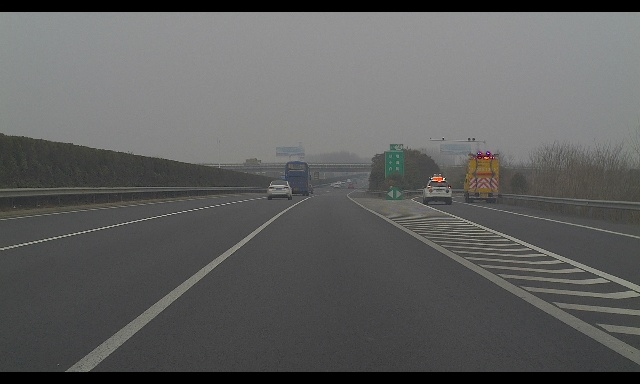bus: (285, 161, 311, 196)
car: (422, 174, 452, 205), (267, 180, 292, 200), (304, 184, 314, 194)
truck: (464, 151, 499, 203), (280, 175, 293, 184)
